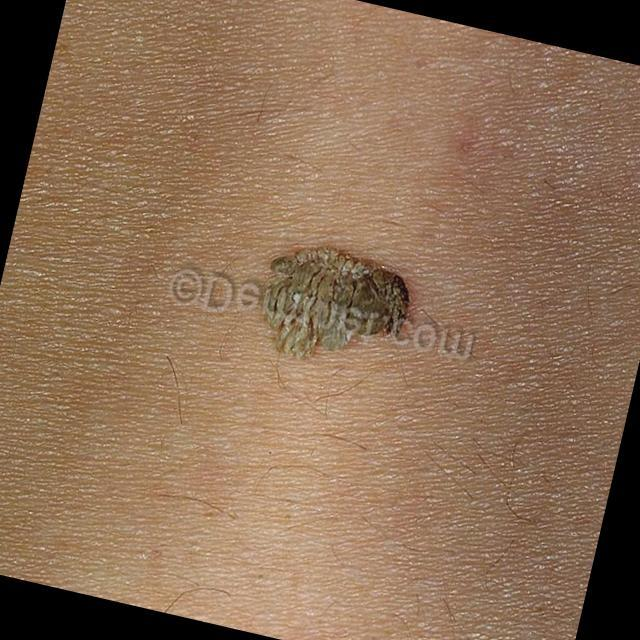Eczema: (248, 232, 417, 372)
